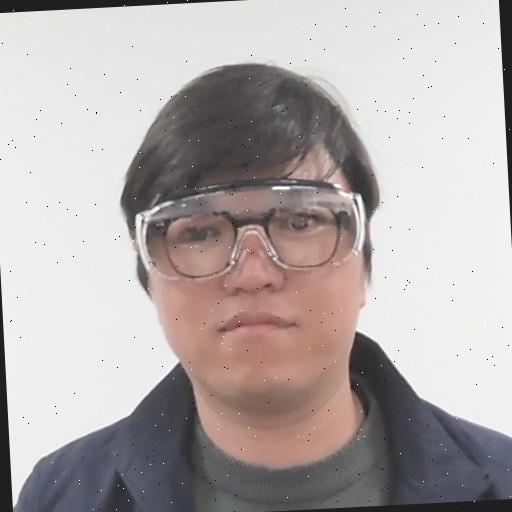glasses: (100, 48, 394, 409)
